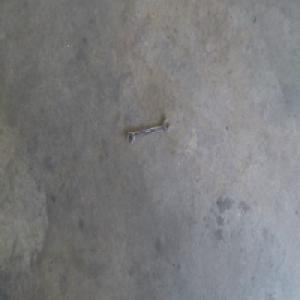Wrench: (126, 119, 171, 146)
